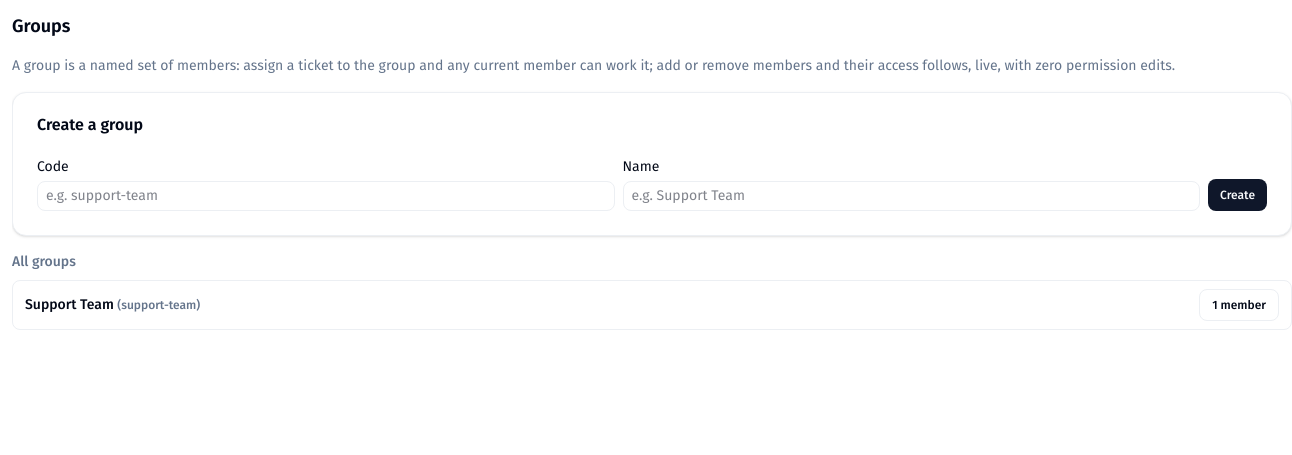
Test: AdminGroupsPage › removes a member from a group
This screenshot has width=1292, height=455.
Click the button with test id "admin-group-expand-g1": [1239, 305] box [1199,289,1279,321]
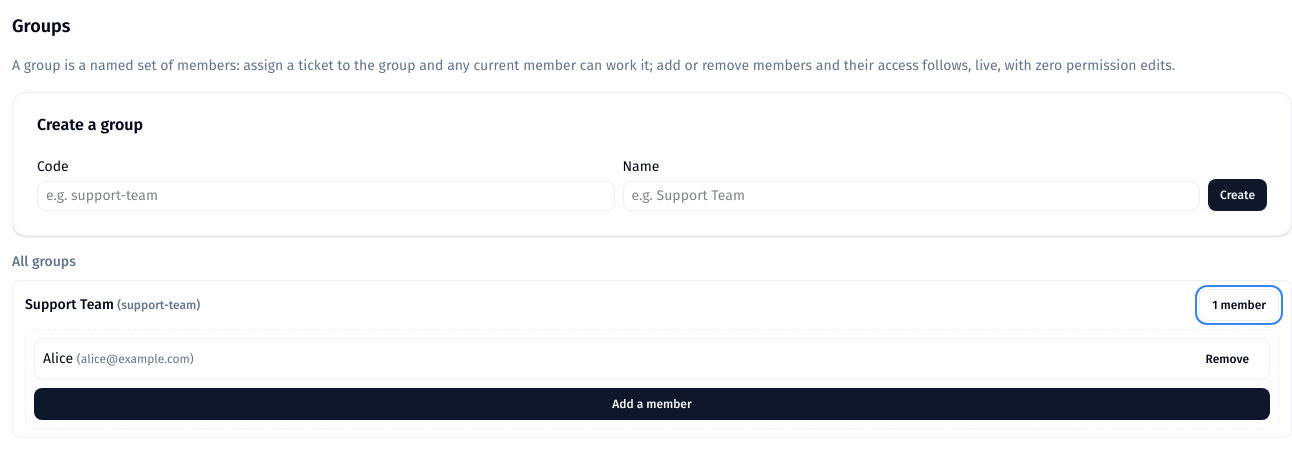
Result: the button with test id "admin-group-remove-member-g1-m1" is shown
Click the button with test id "admin-group-remove-member-g1-m1": [1227, 359] box [1194,343,1261,375]
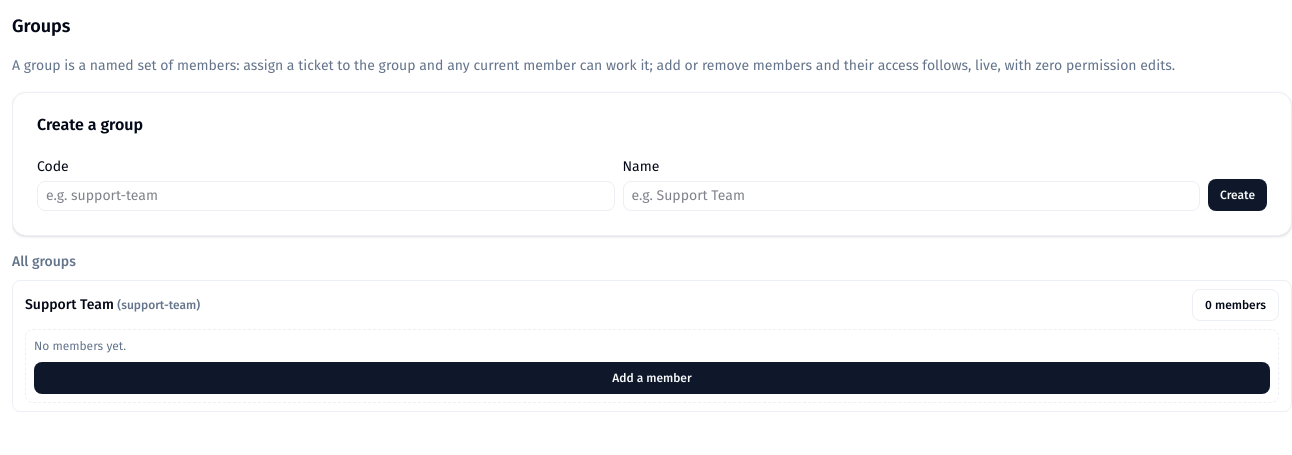
Result: the button with test id "admin-group-expand-g1" reads "0 members" at [1192,289,1279,321]
